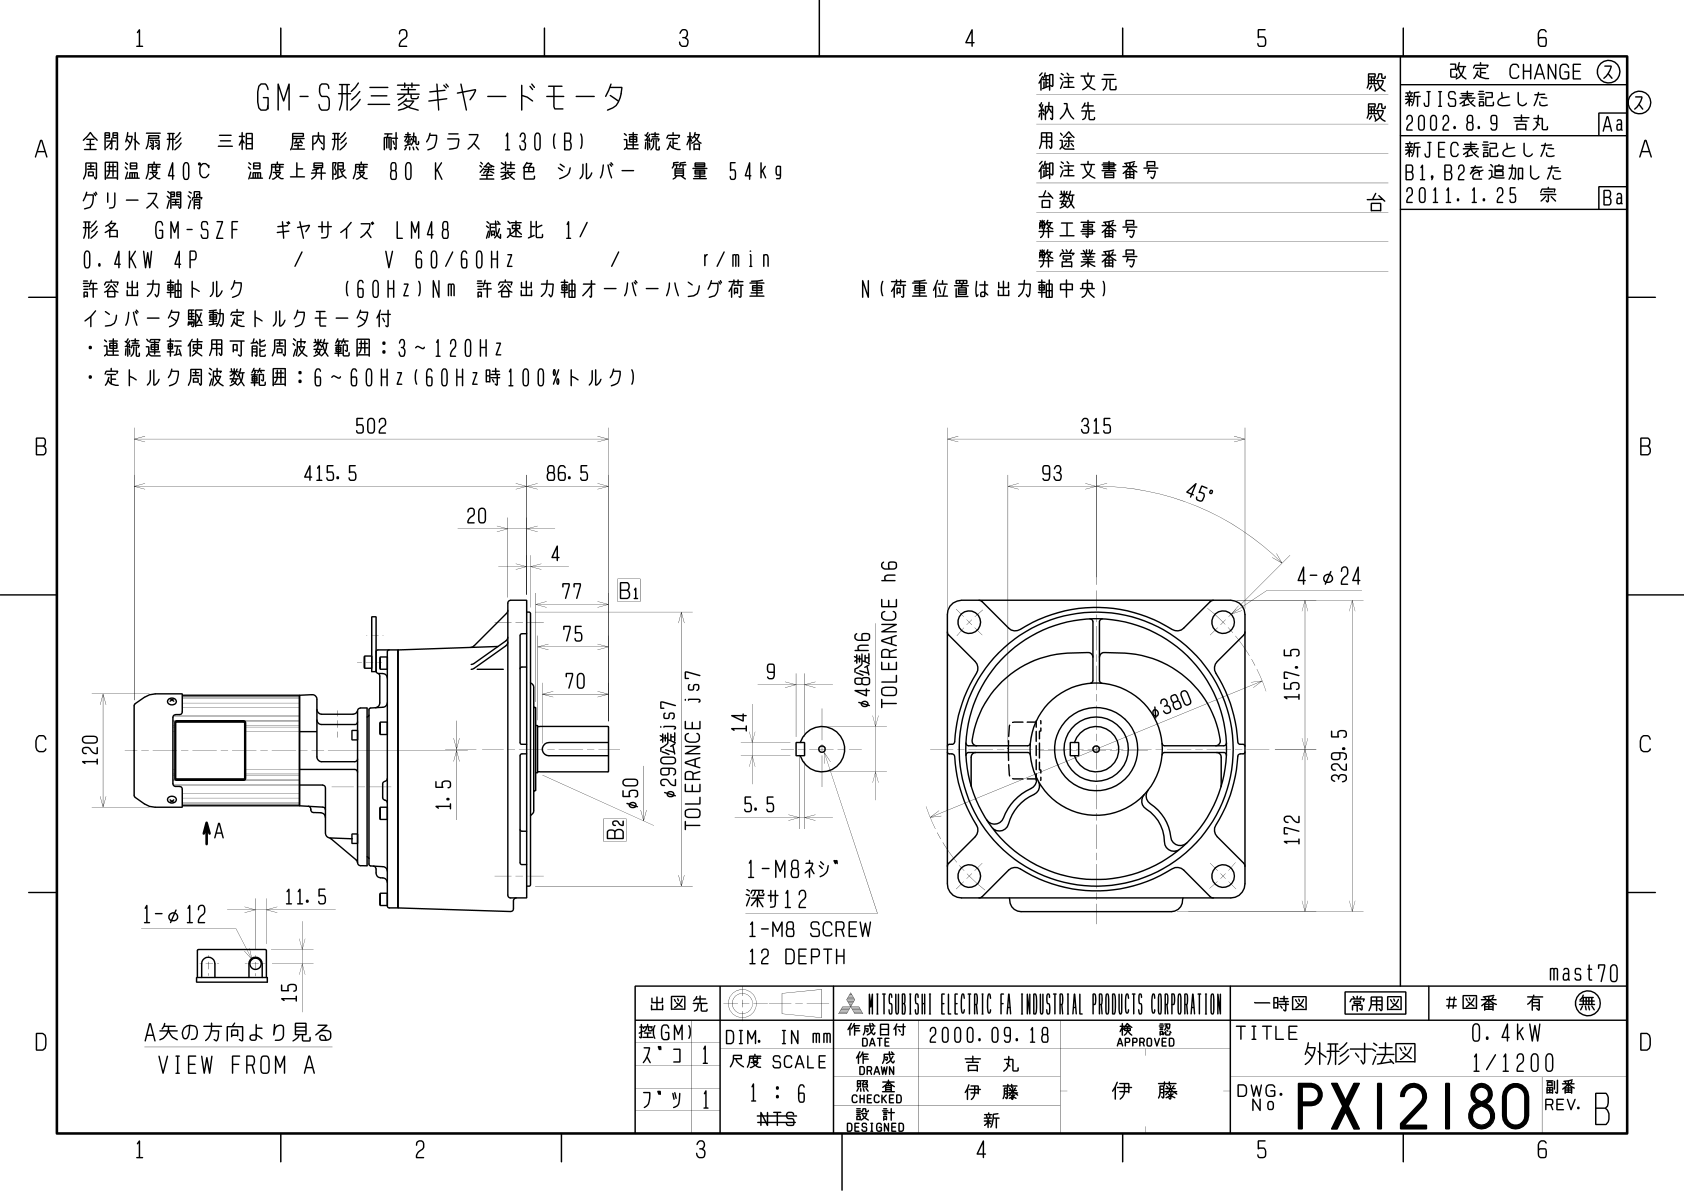GM_S_インバタ屋内＿三相_フランジ: (12, 10, 1684, 1191)
